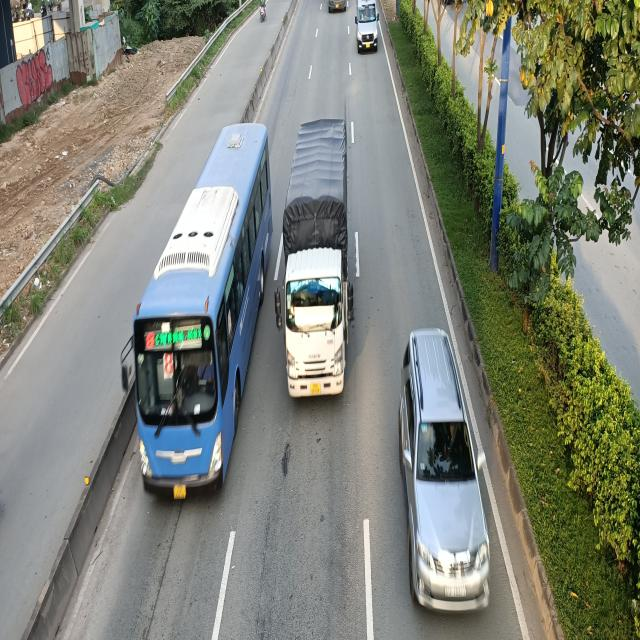car: (396, 324, 488, 615)
coach: (120, 123, 270, 493)
truck: (273, 119, 355, 404)
van: (354, 0, 380, 52)
